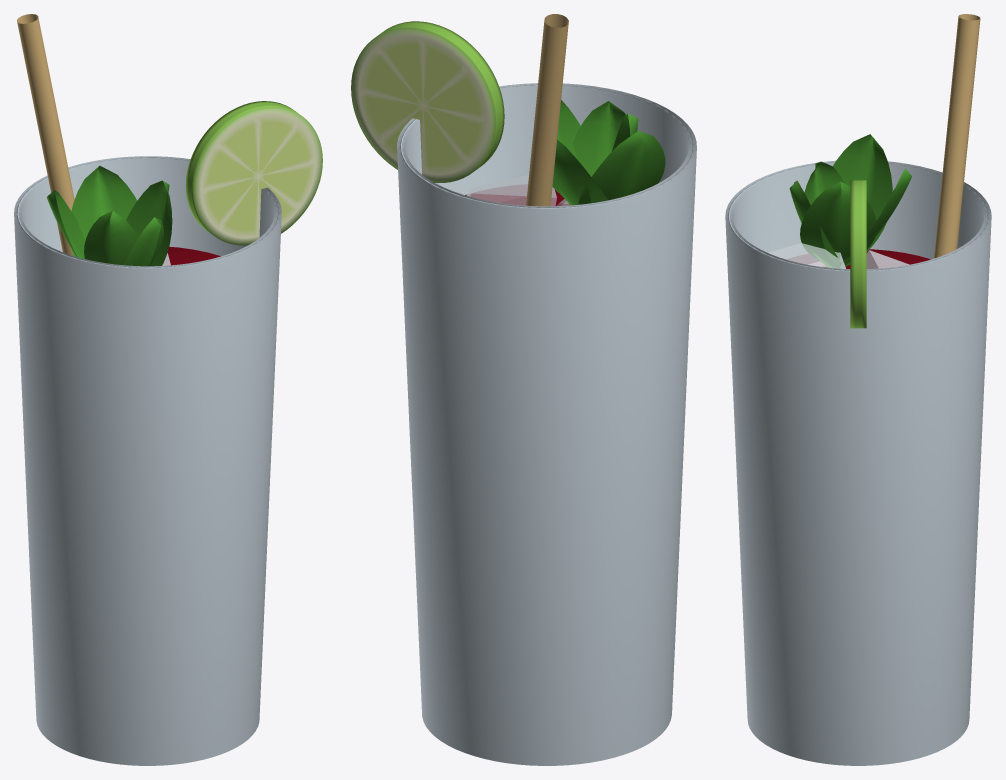
Rendered from cocktail-bissap.glb.
The picture shows the model from 3 angles, left to right: view 1: azimuth 30°, elevation 25°; view 2: azimuth 150°, elevation 25°; view 3: azimuth 270°, elevation 25°; orthographic projection. The views are drawn at different scales.
Visible parts, largest first — view 1: verre, citron_vert, menthe, paille, bissap; view 2: verre, citron_vert, menthe, paille, glacons, bissap; view 3: verre, menthe, paille, citron_vert, glacons, bissap.
Part boxes in pixels (x1=…): verre: x1=14, y1=156, x2=281, y2=765; citron_vert: x1=185, y1=101, x2=322, y2=245; menthe: x1=46, y1=165, x2=172, y2=266; paille: x1=17, y1=14, x2=74, y2=255; bissap: x1=163, y1=246, x2=220, y2=265; verre: x1=397, y1=83, x2=696, y2=765; citron_vert: x1=351, y1=21, x2=504, y2=183; menthe: x1=552, y1=100, x2=665, y2=205; paille: x1=526, y1=14, x2=568, y2=206; glacons: x1=466, y1=175, x2=569, y2=206; bissap: x1=465, y1=184, x2=569, y2=206; verre: x1=725, y1=160, x2=991, y2=765; menthe: x1=789, y1=134, x2=911, y2=268; paille: x1=934, y1=14, x2=980, y2=258; citron_vert: x1=850, y1=180, x2=866, y2=328; glacons: x1=768, y1=243, x2=909, y2=268; bissap: x1=787, y1=249, x2=930, y2=268.
Bounding box in the file's own units: 0.089 × 0.2005 × 0.072.
